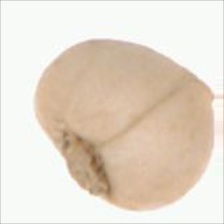L4: (34, 39, 214, 211)
